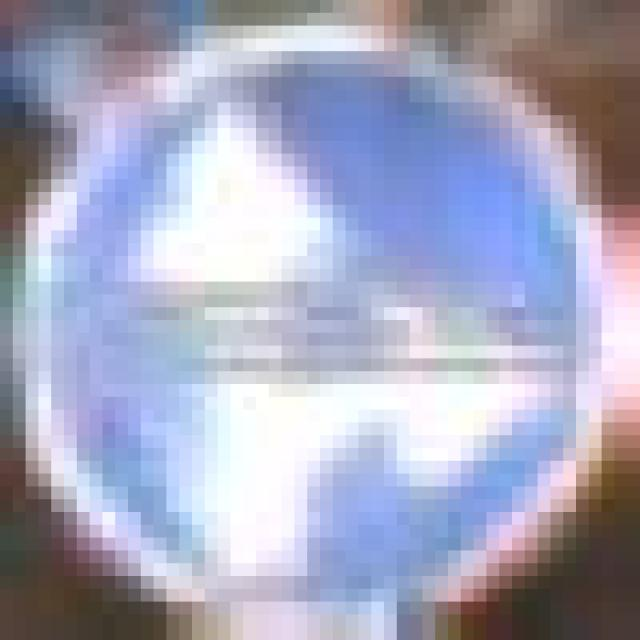COMPULSARY_AHEAD_OR_TURN_RIGHT: (21, 27, 592, 606)
